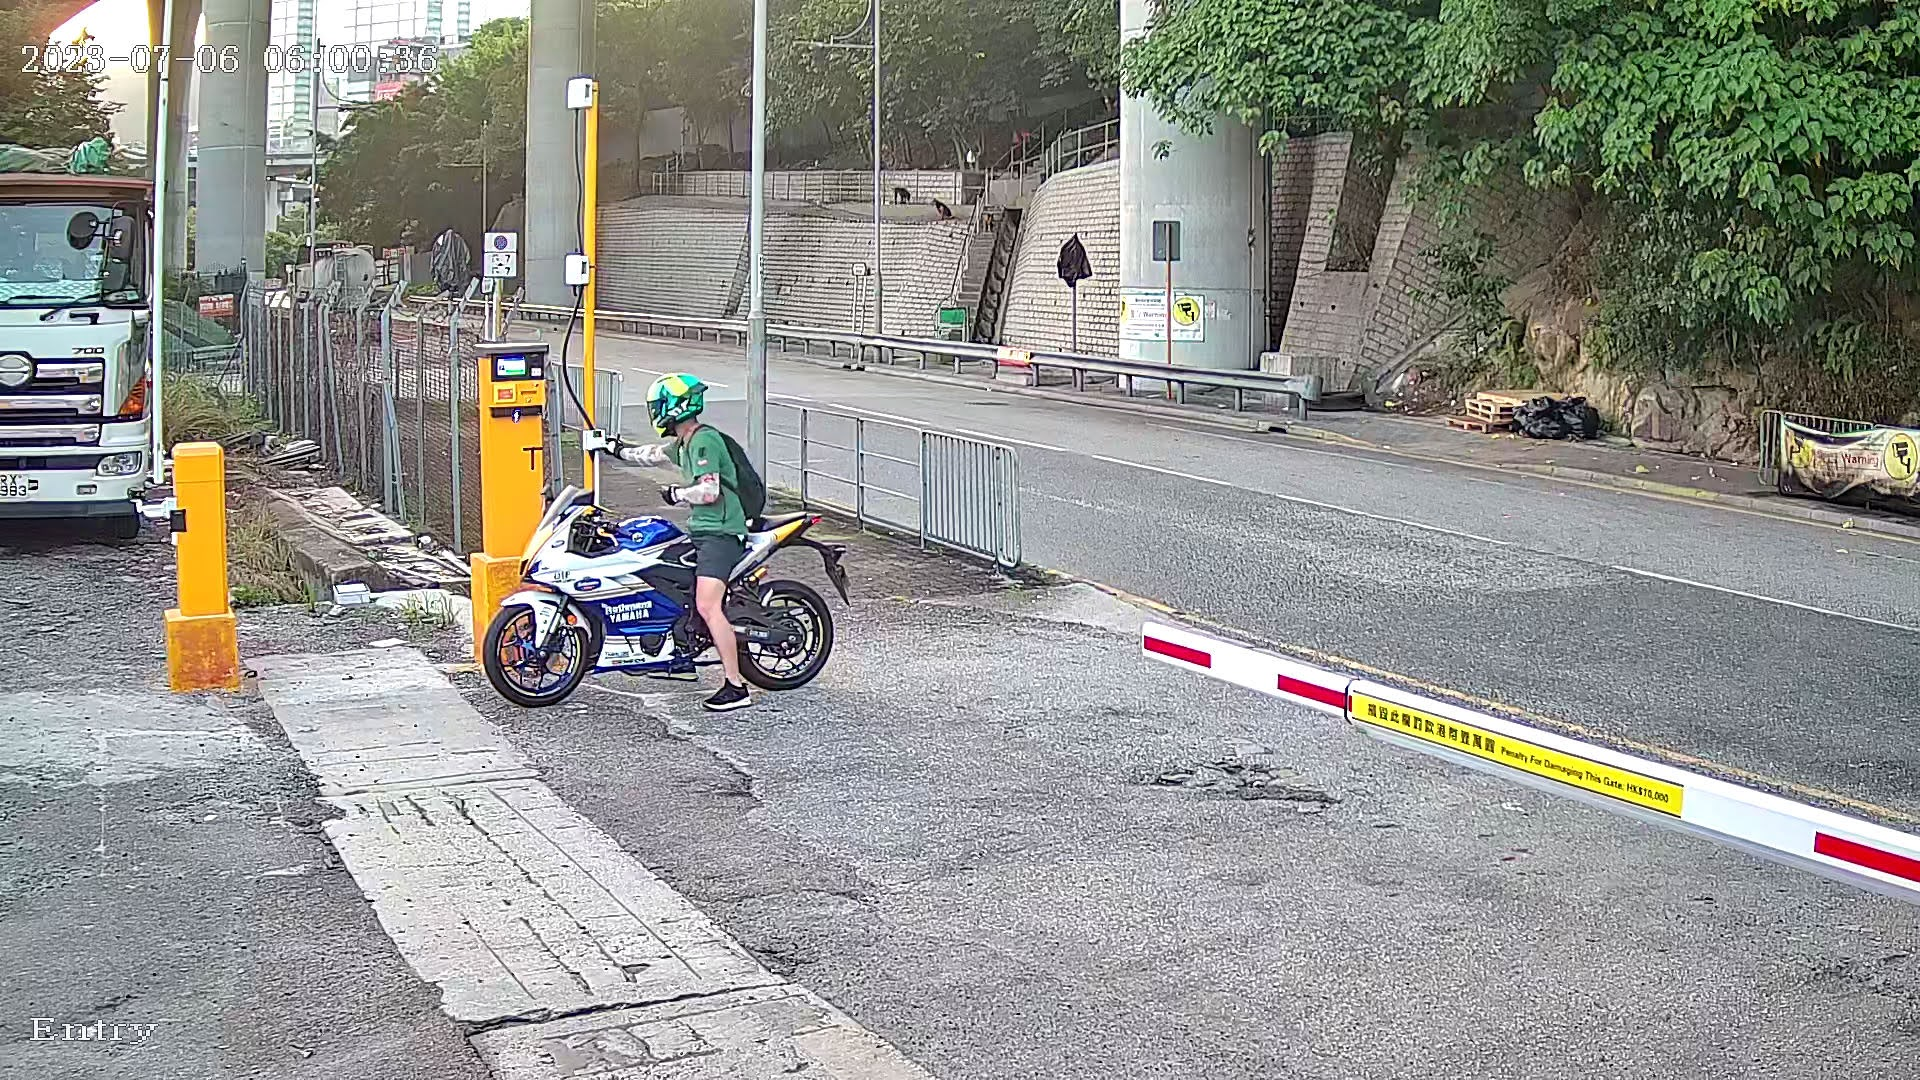motorcycle: (455, 295, 852, 748)
